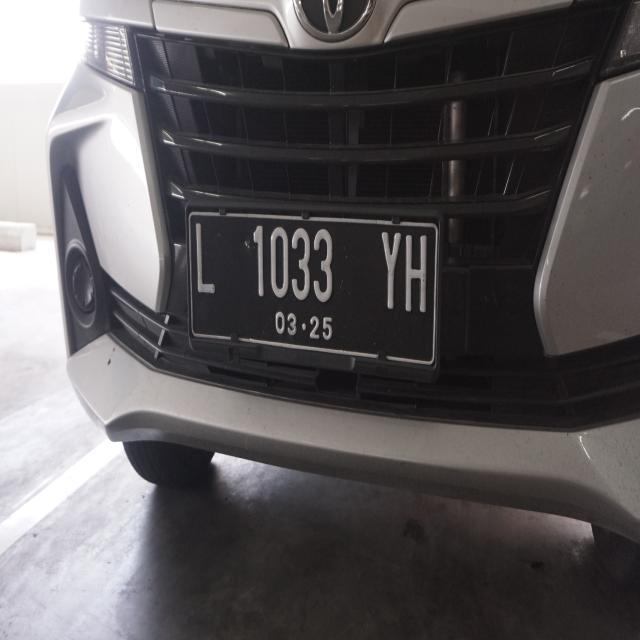0: (271, 224, 288, 302)
1: (242, 221, 272, 303)
3: (288, 219, 314, 303), (312, 222, 337, 306)
H: (402, 226, 432, 314)
L: (190, 216, 230, 310)
Y: (380, 224, 404, 314)
